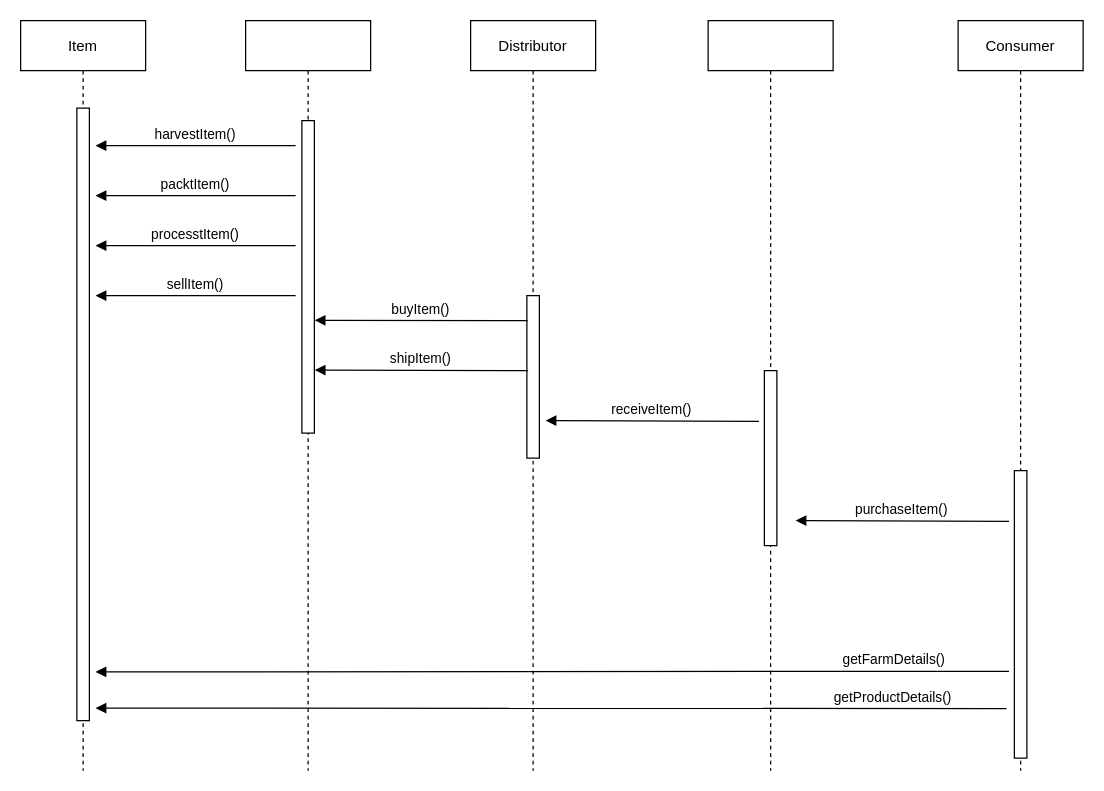
This 1104x791 diagram has some shape labels left out. The centre of each missing label's shape, as x and y in pixels:
Farmer: the point at 307,395
Retailer: the point at 770,395
